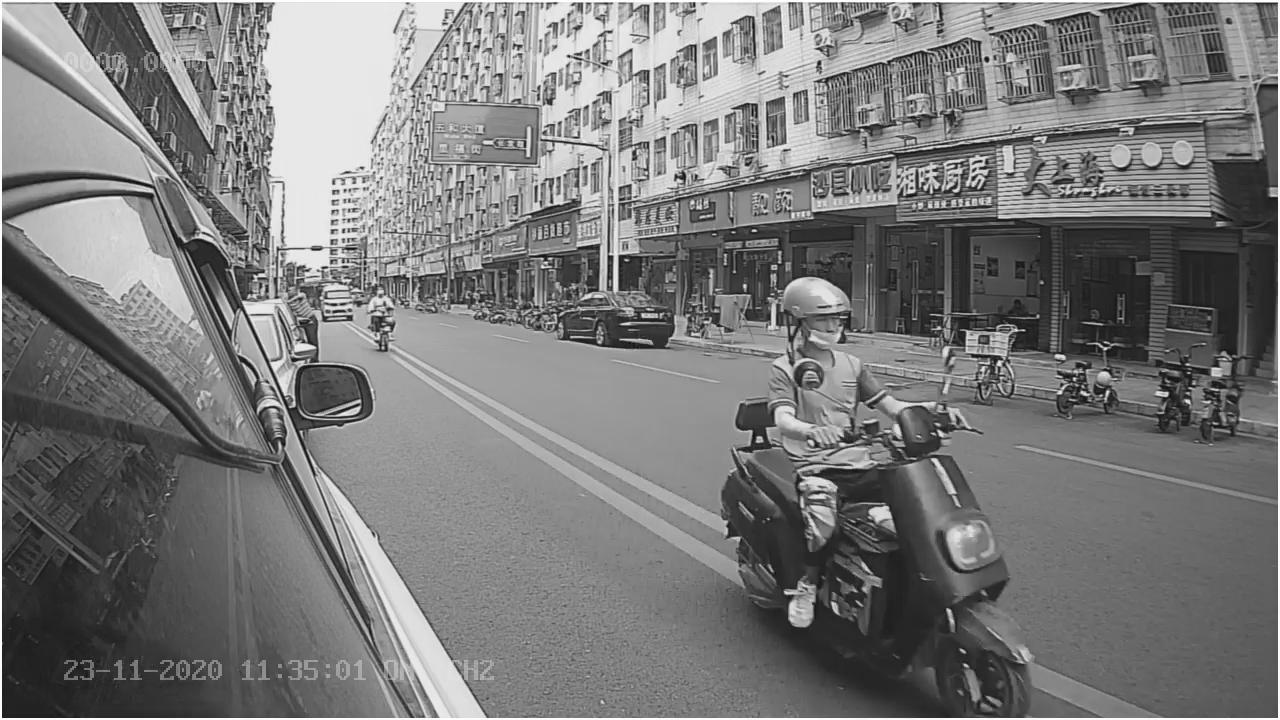person: (772, 279, 908, 442)
